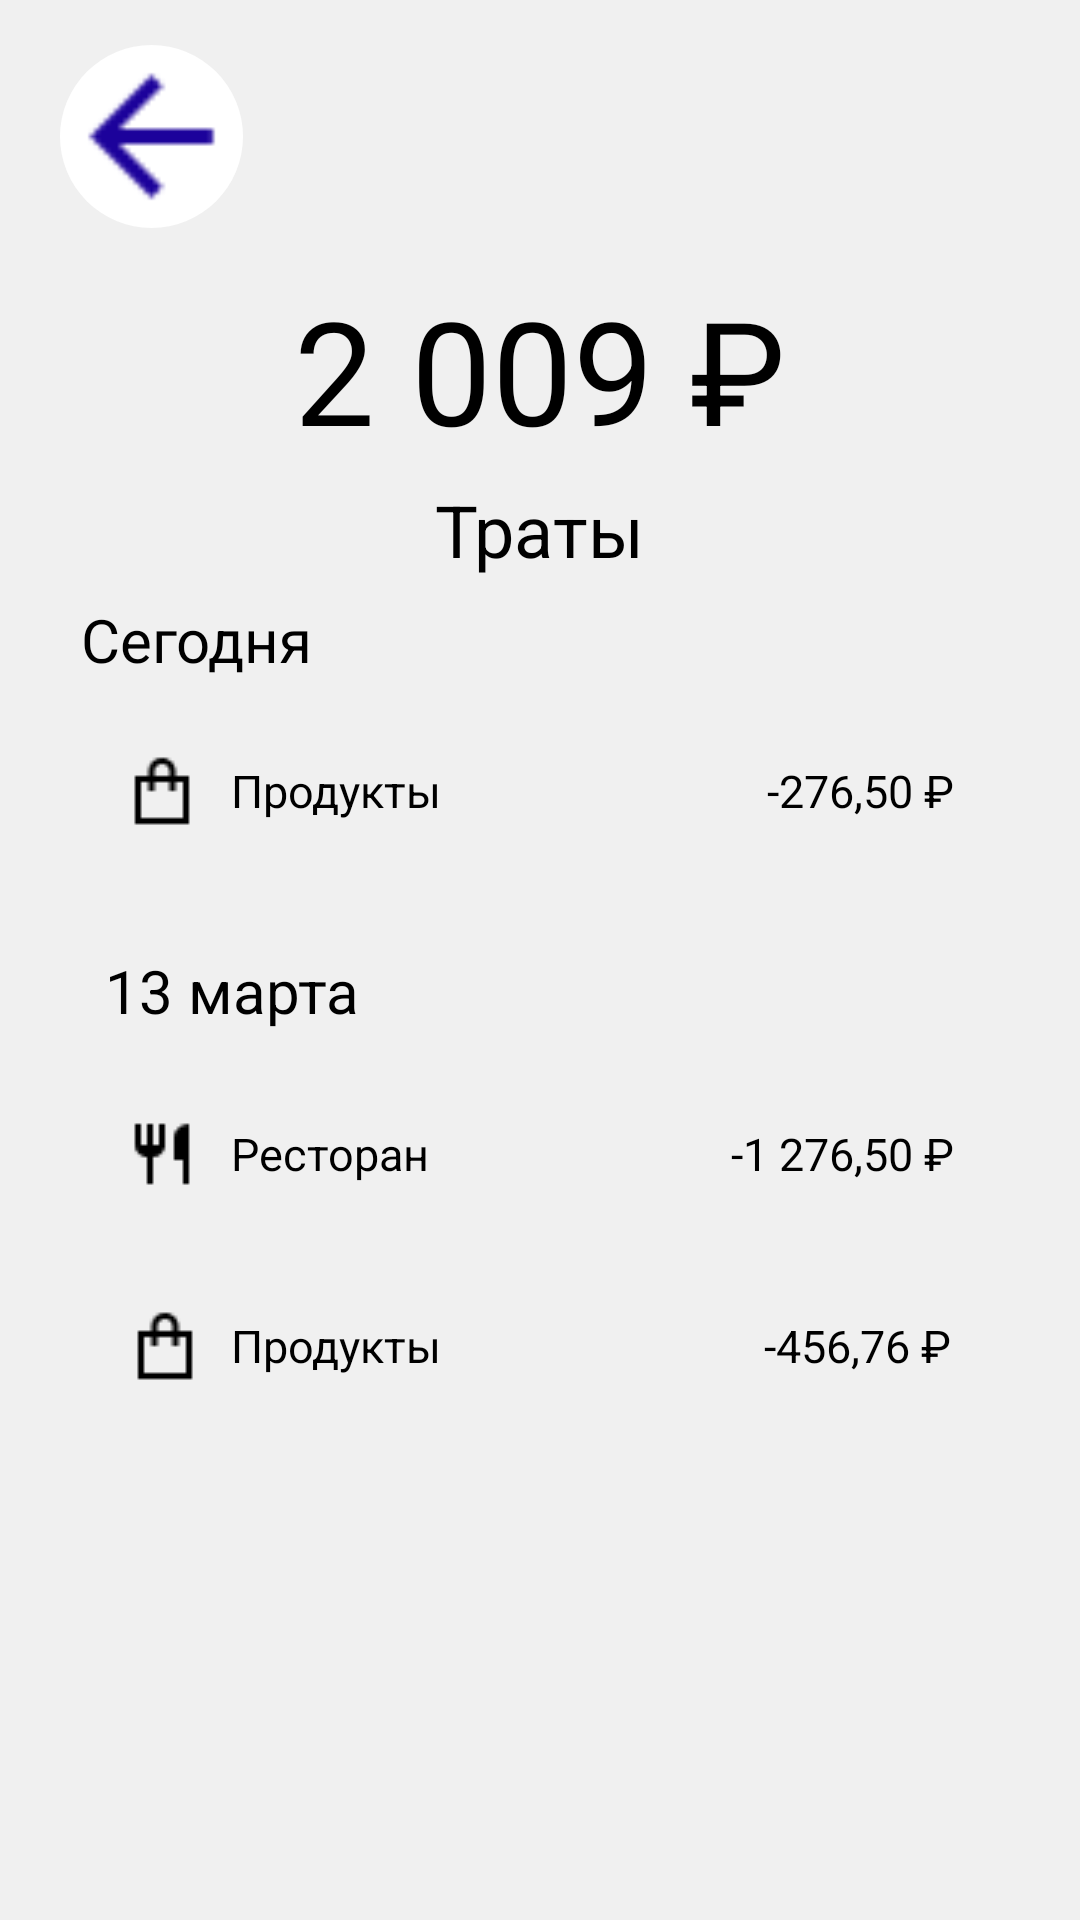

Icons on this 1080px×1920px Android screen, each with its box as detection(x1, y1, x2, y2):
back: detection(60, 45, 243, 228)
restaurant: detection(134, 1123, 190, 1185)
tdesign shop: detection(134, 757, 190, 825), detection(137, 1312, 193, 1380)
